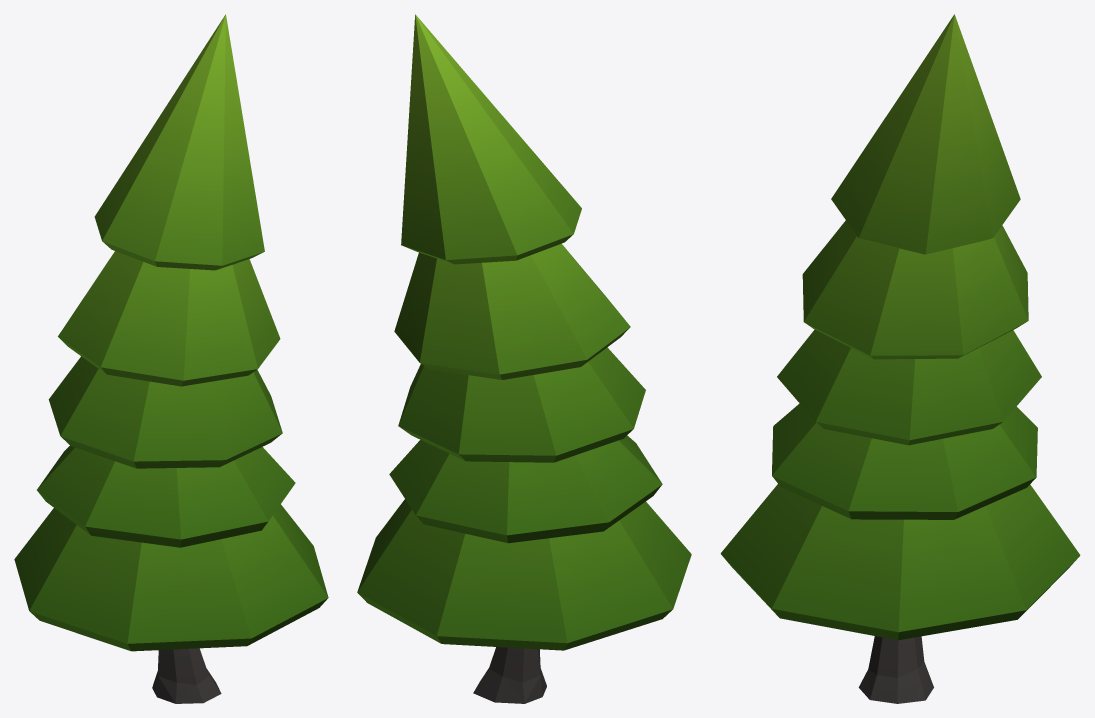
Rendered from Gqianlvse.FBX.
3 views of the same model, side by side, from view 1: azimuth 30°, elevation 25°; view 2: azimuth 150°, elevation 25°; view 3: azimuth 270°, elevation 25° (orthographic). The views are drawn at different scales.
Parts seen in each view (by area): view 1: PineTree_C_01 - Default_0; view 2: PineTree_C_01 - Default_0; view 3: PineTree_C_01 - Default_0.
Boxes of the visible parts, x1,y1,x2,y2 form: PineTree_C_01 - Default_0: (14,14,328,703); PineTree_C_01 - Default_0: (357,14,691,703); PineTree_C_01 - Default_0: (720,14,1080,703).
Size of the model in its own units: 28.75 by 62.28 by 28.67.
